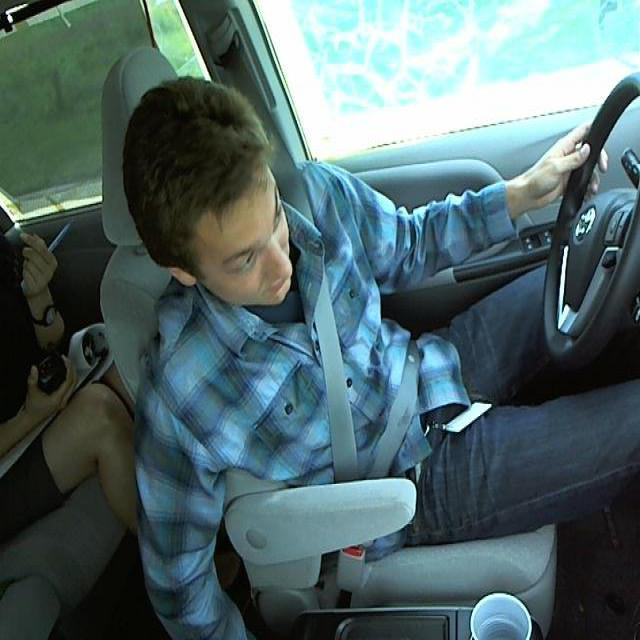seatbelt: (308, 288, 420, 481)
